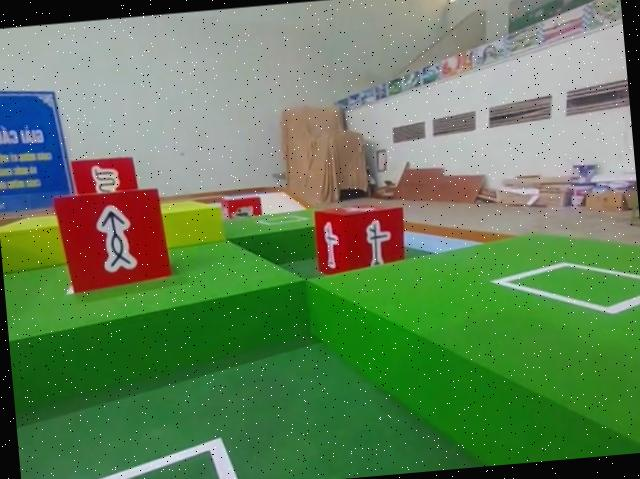R2 Fake: (68, 152, 142, 213)
R2 Real: (51, 183, 170, 294), (309, 197, 413, 276)
